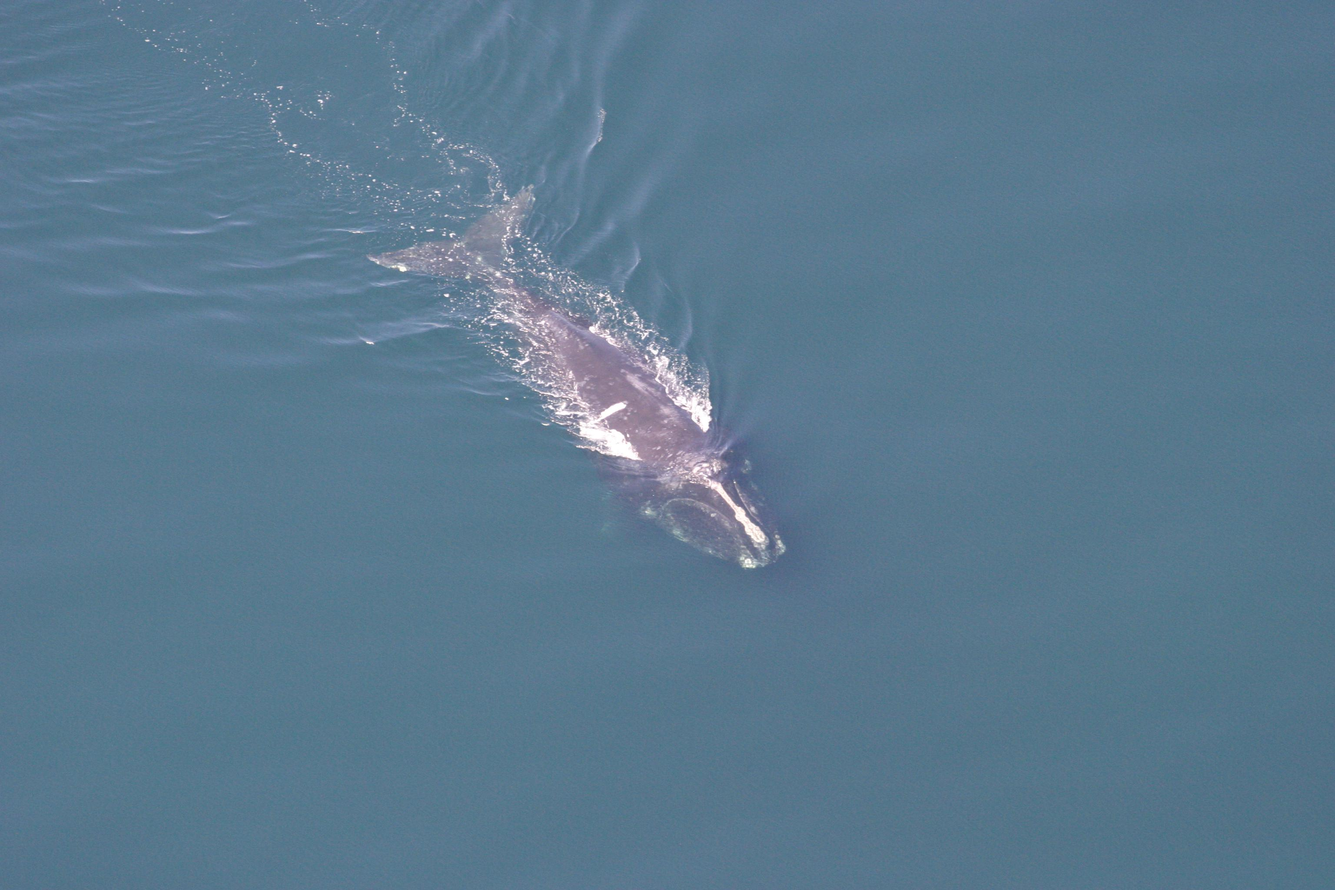whale: (355, 176, 794, 579)
